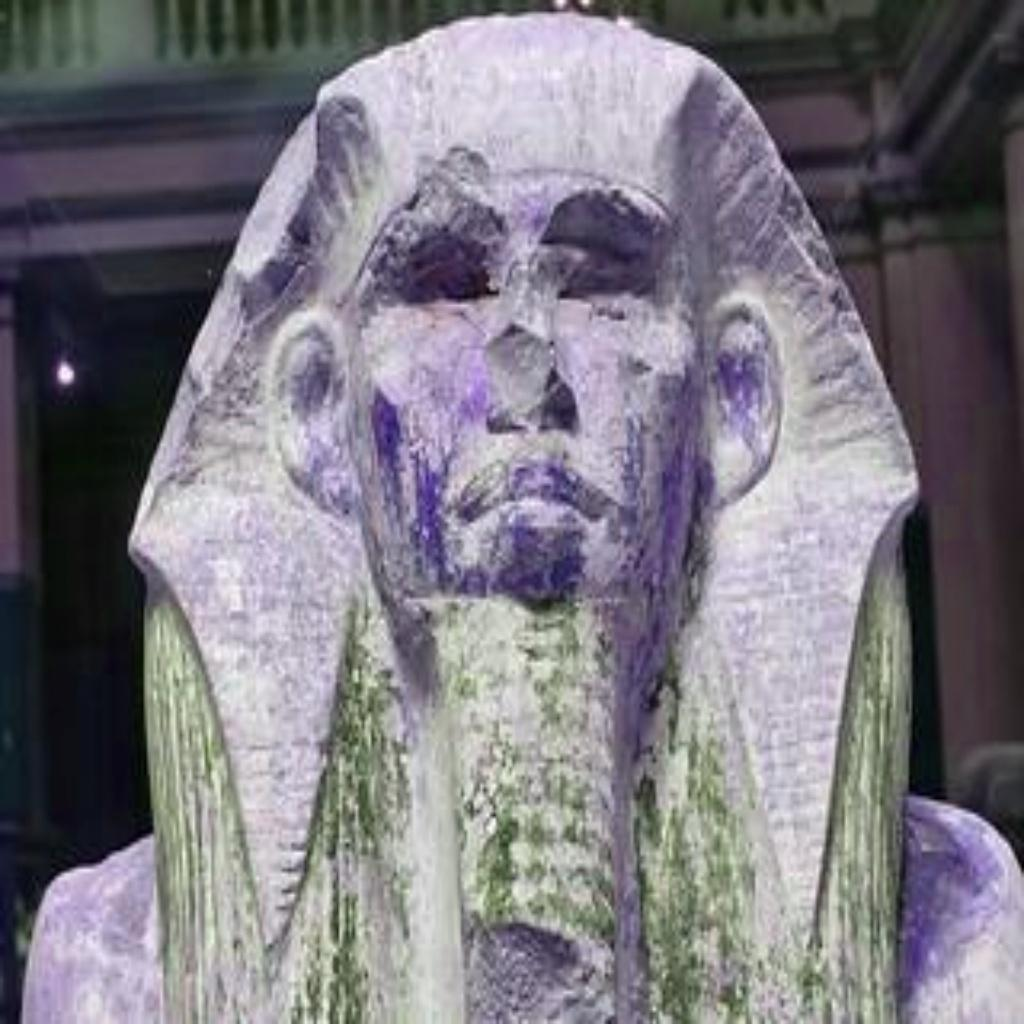Statue of King Zoser: (13, 0, 1021, 1020)
